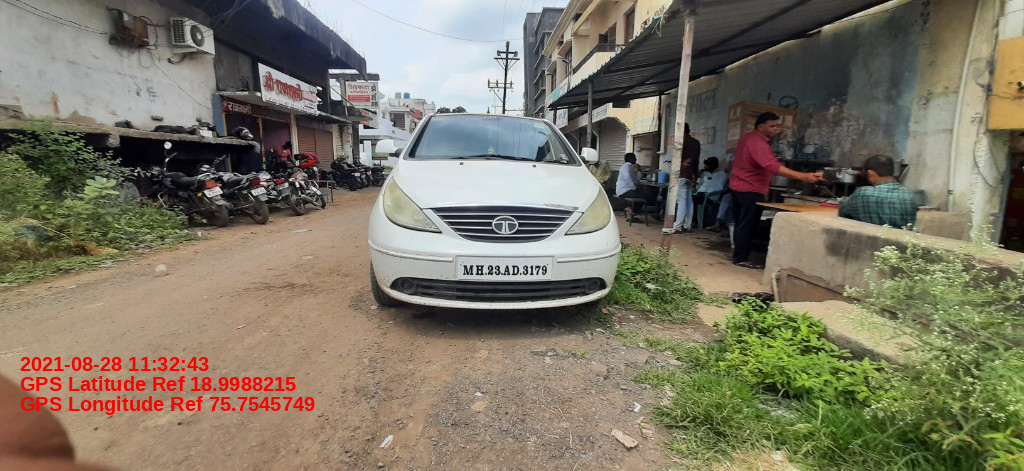Scratched: (540, 199, 583, 212), (593, 288, 607, 298)
